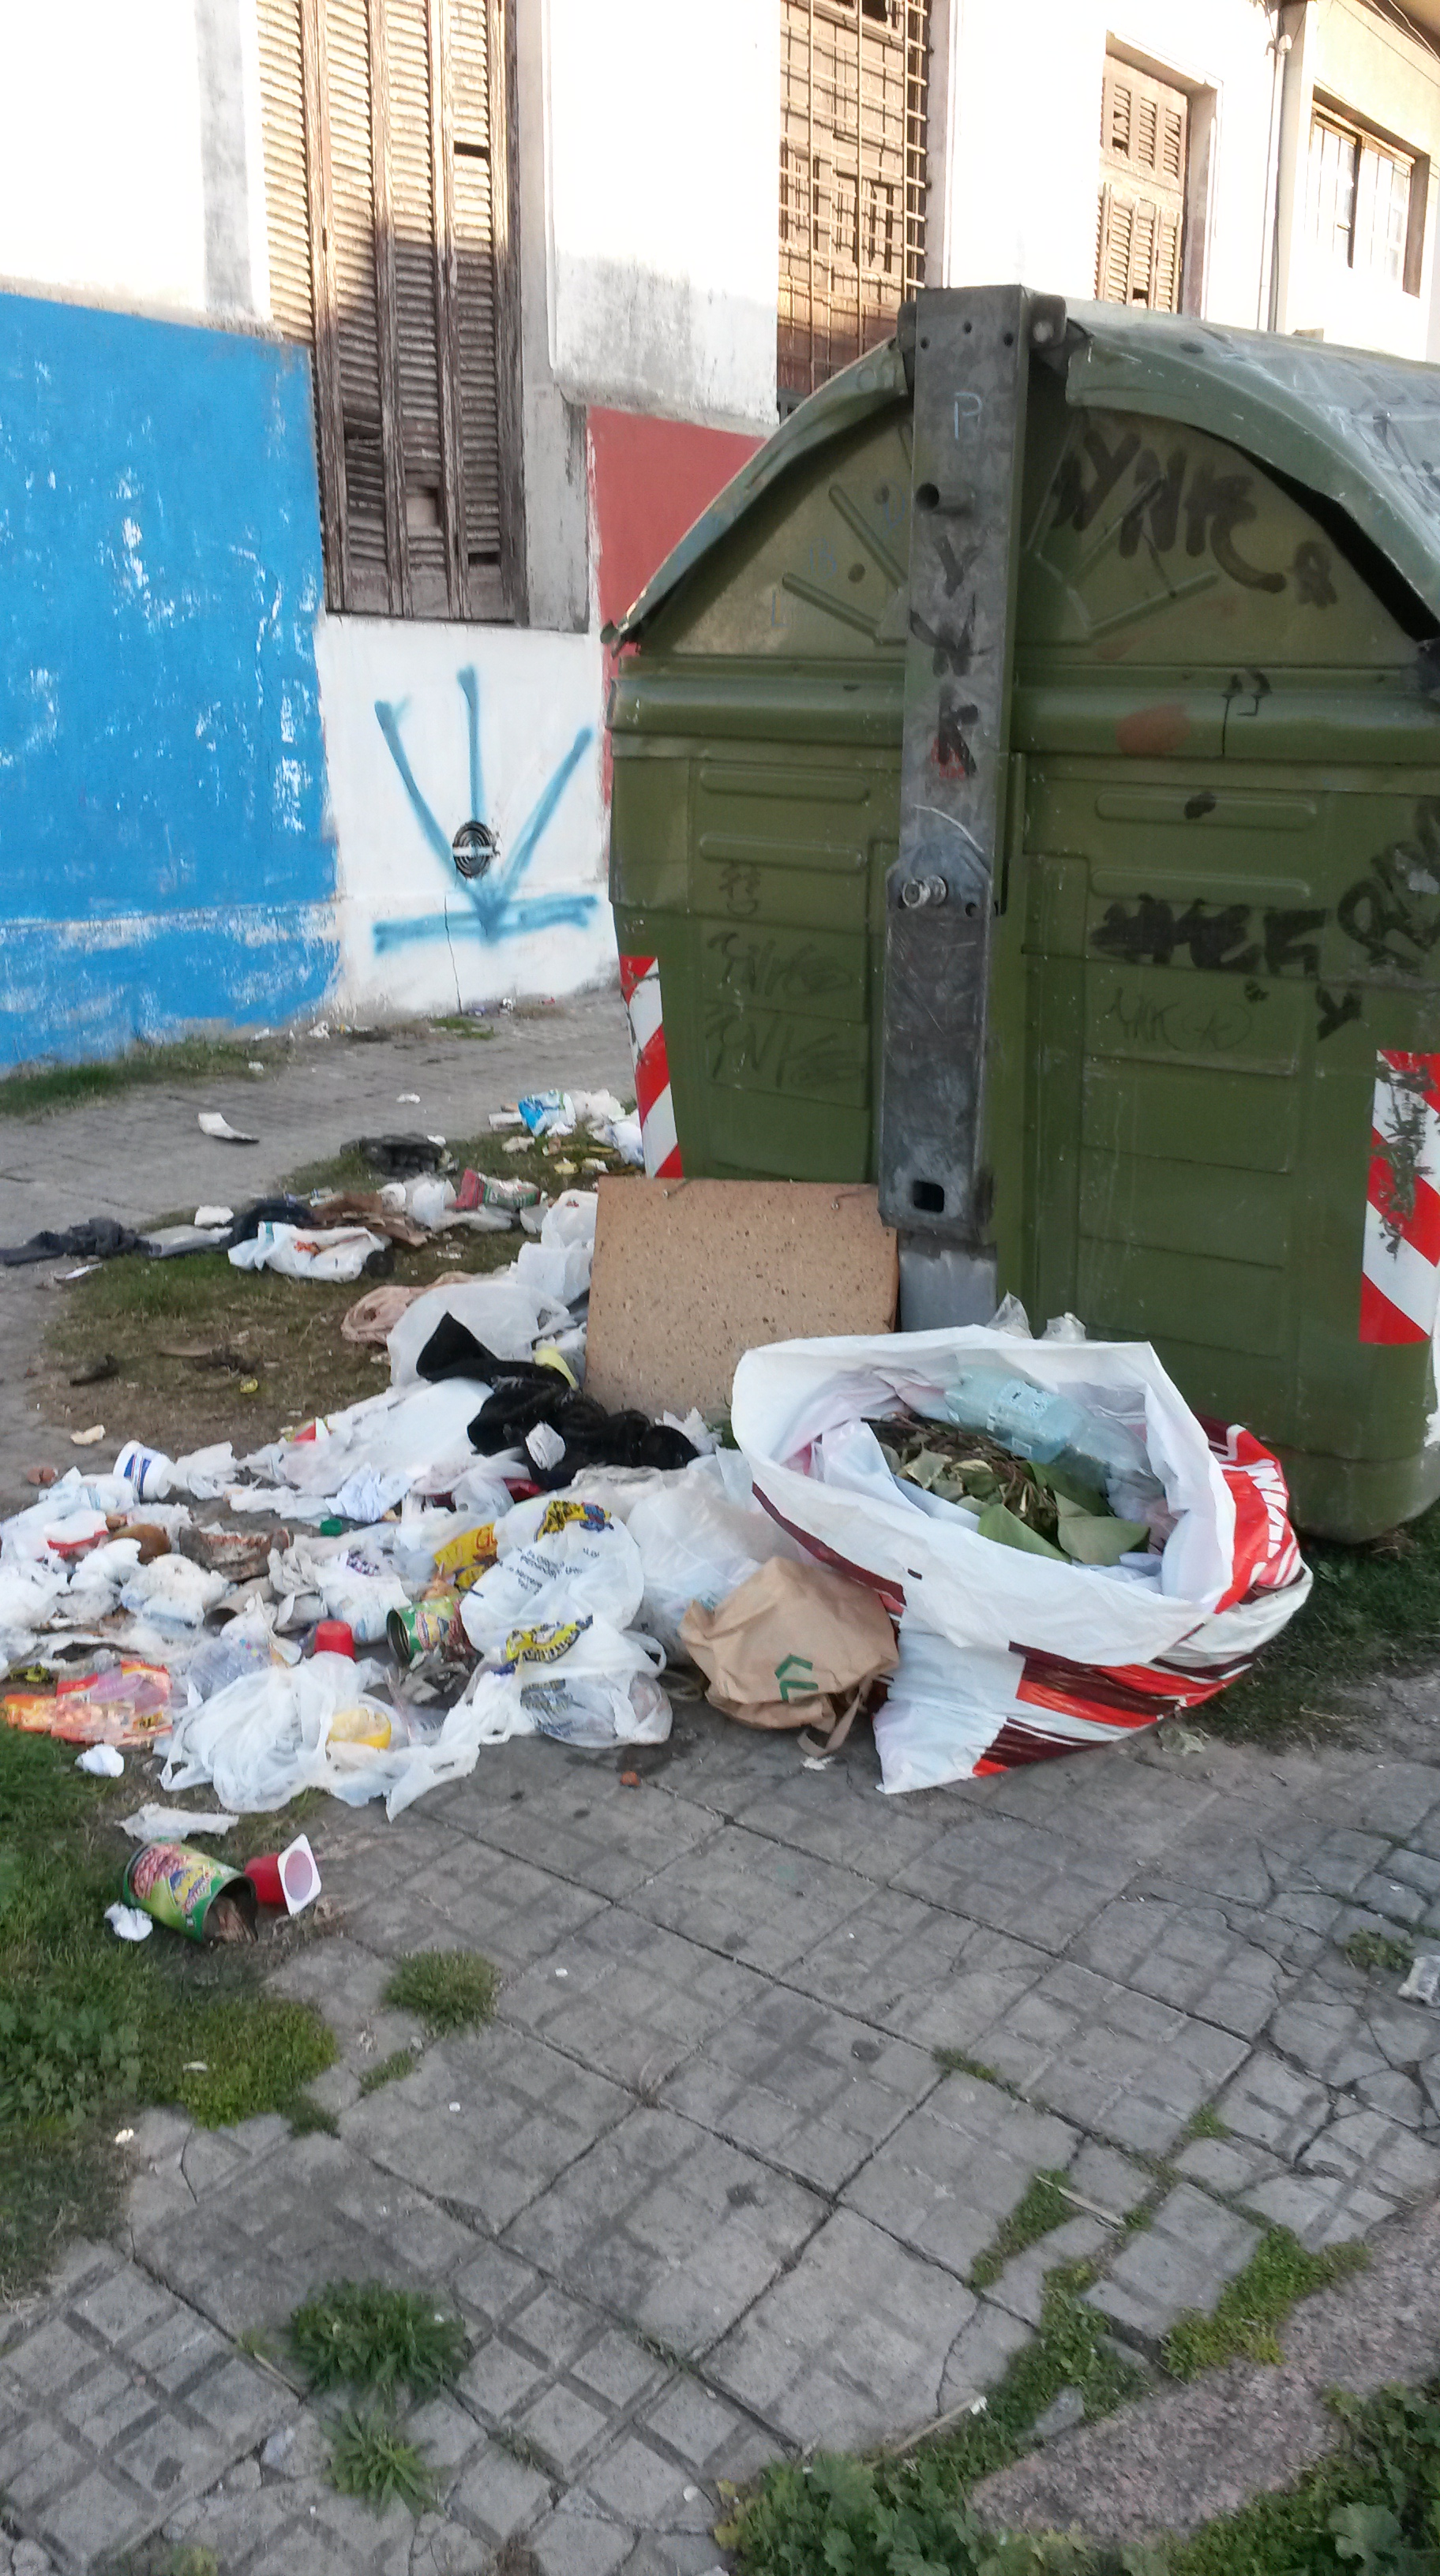container: (578, 283, 1440, 1559)
